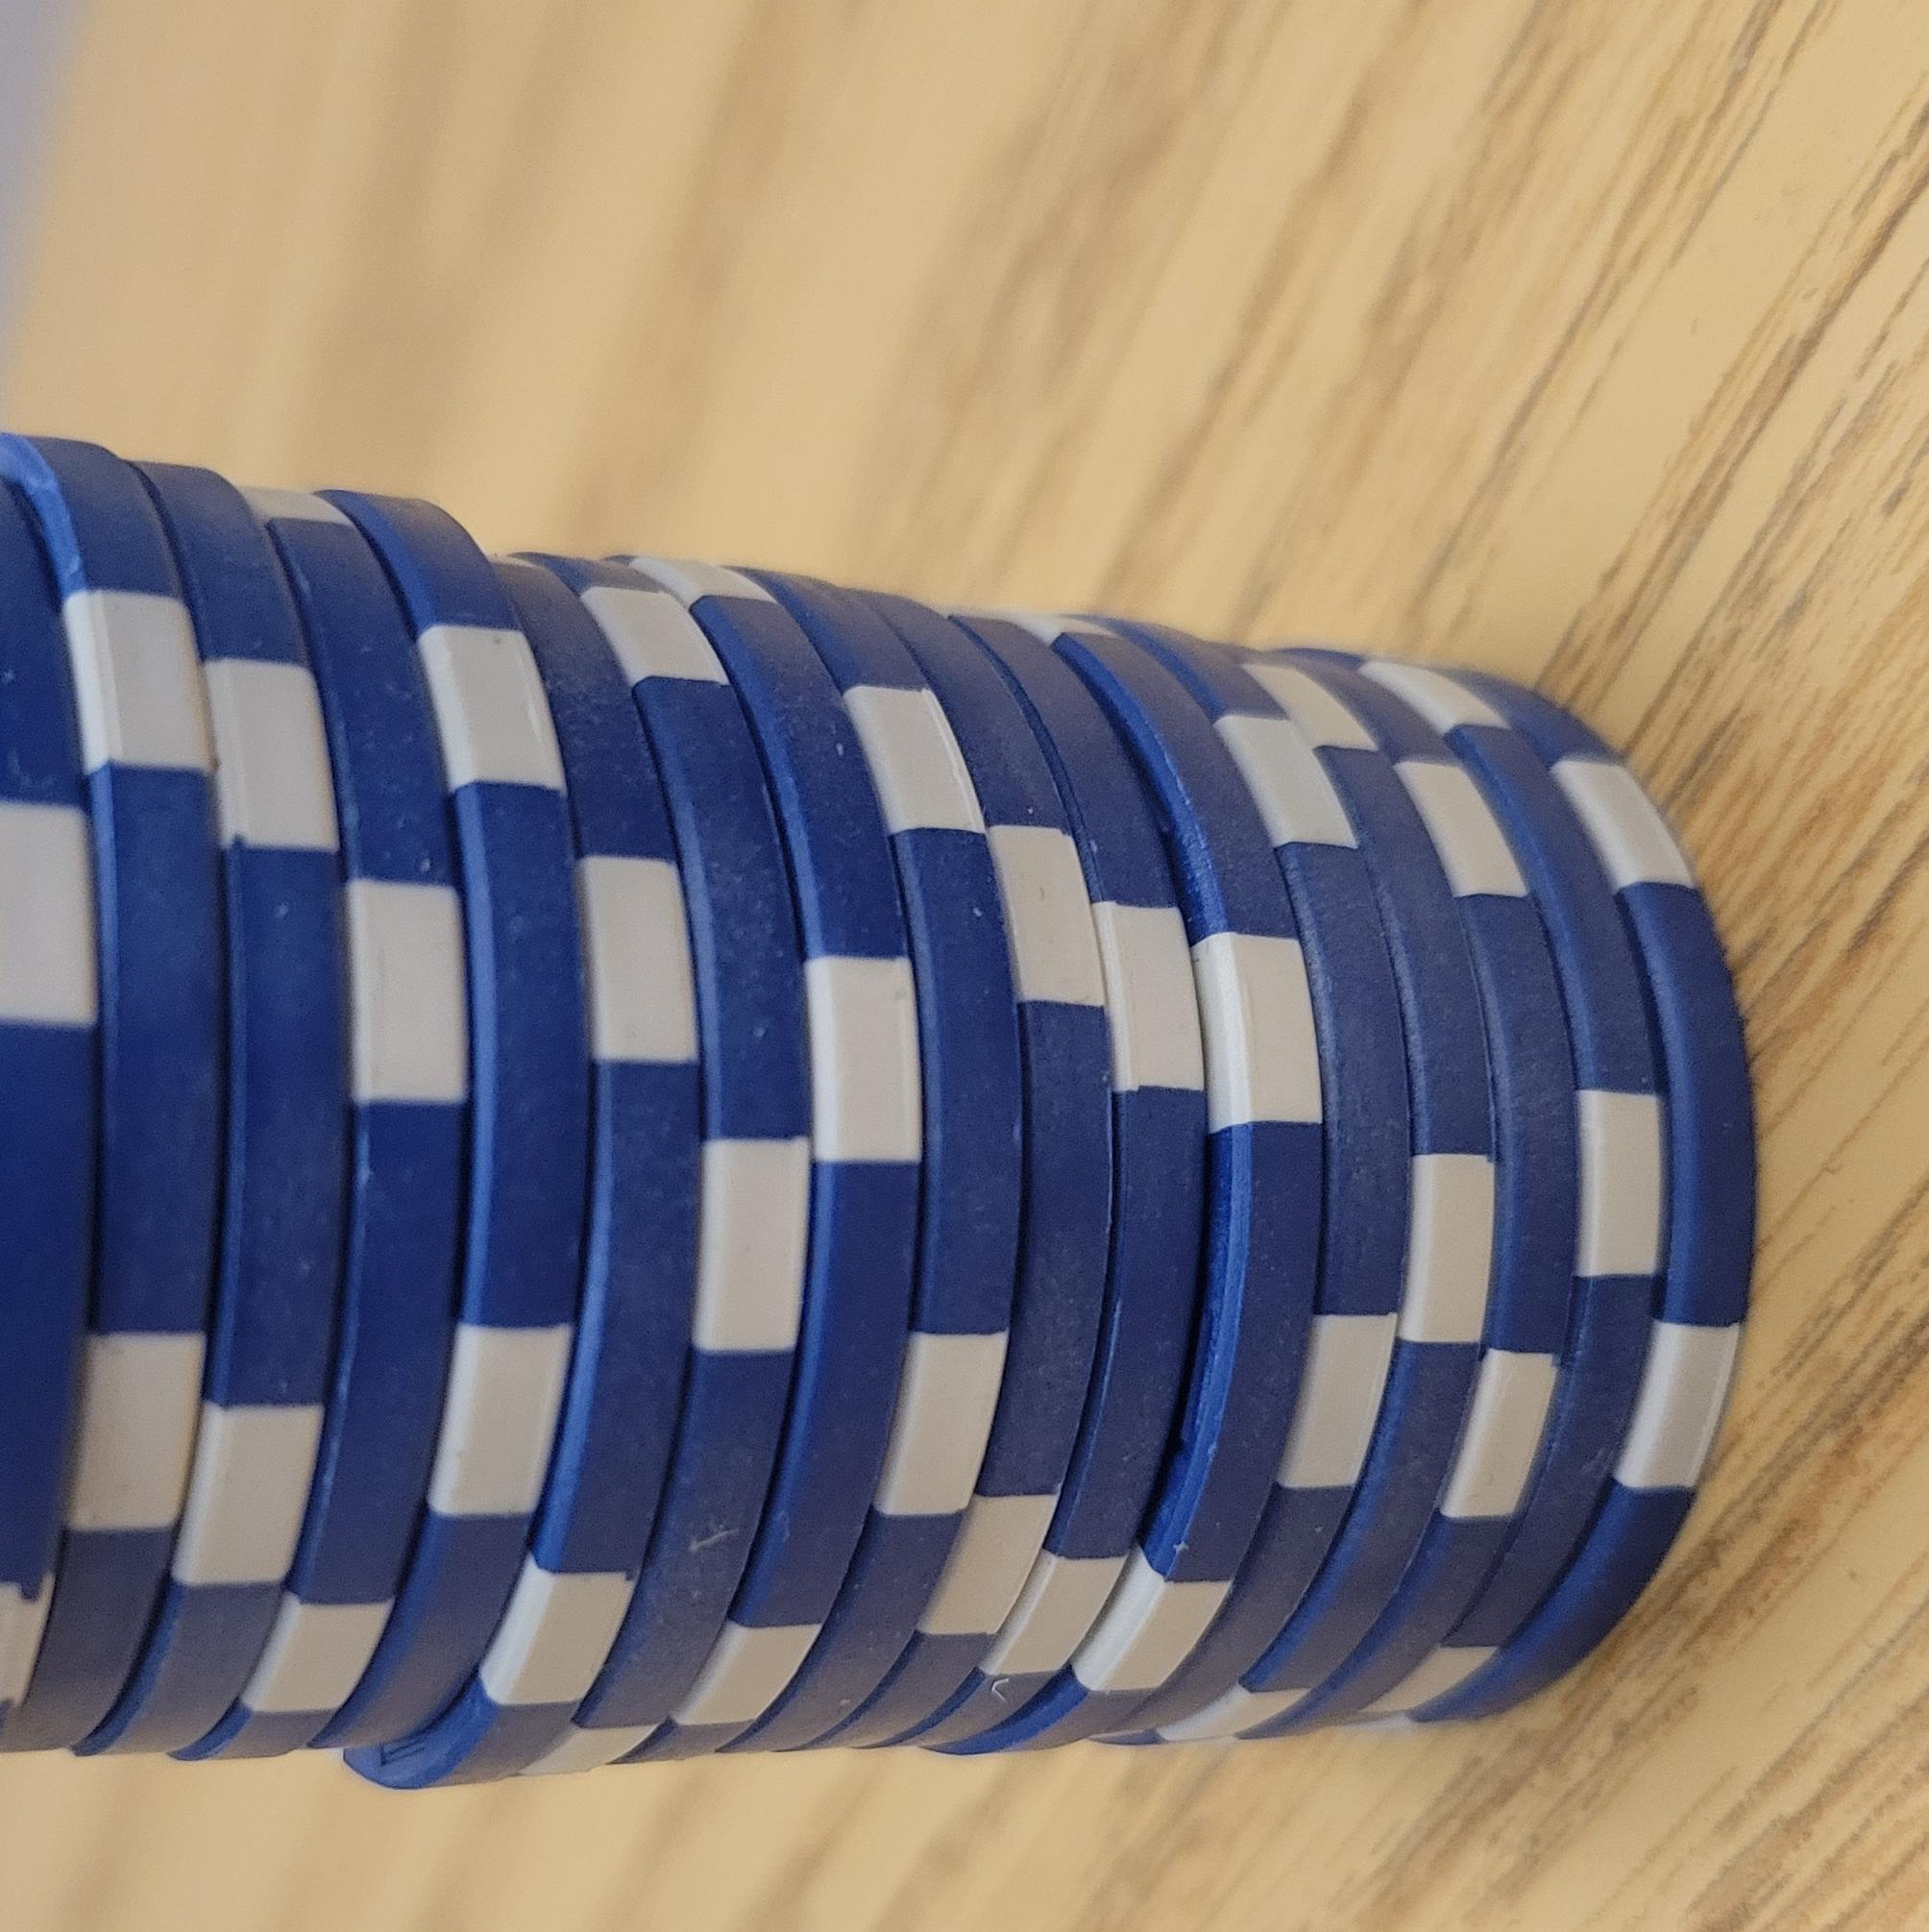Chip: (2, 87, 1185, 1932)
